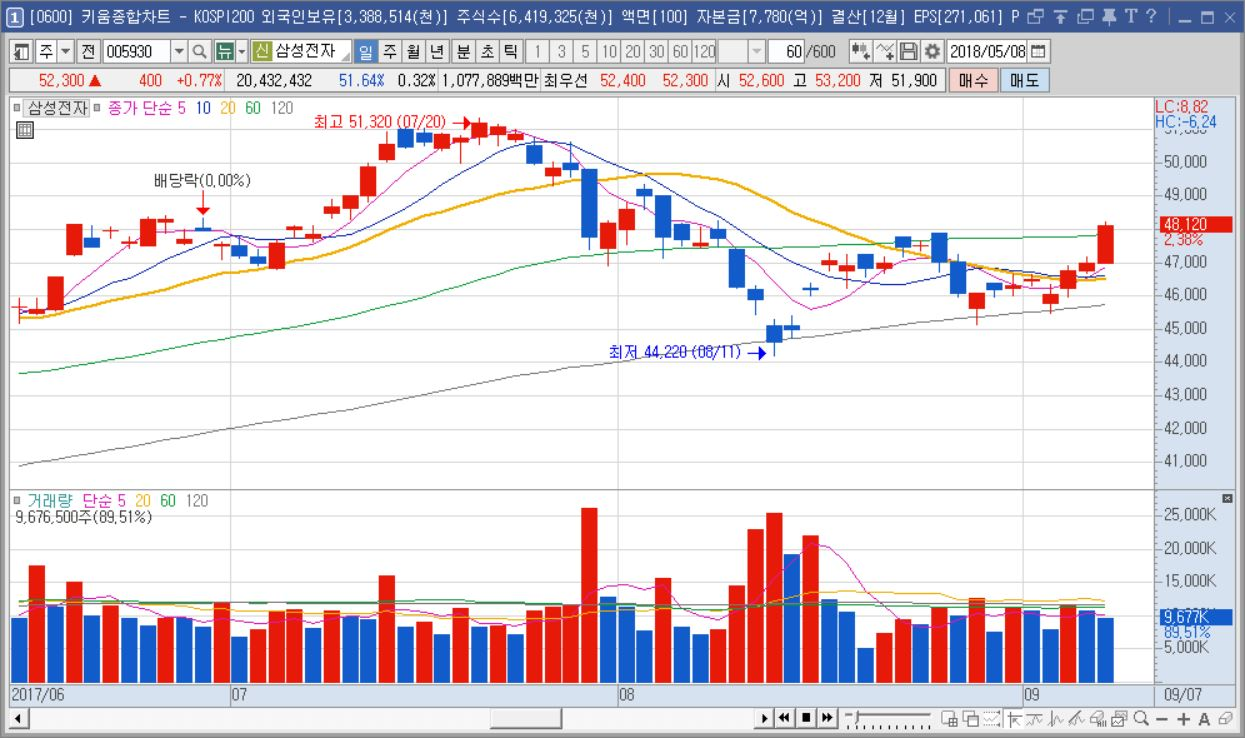up: (766, 197, 1117, 681)
